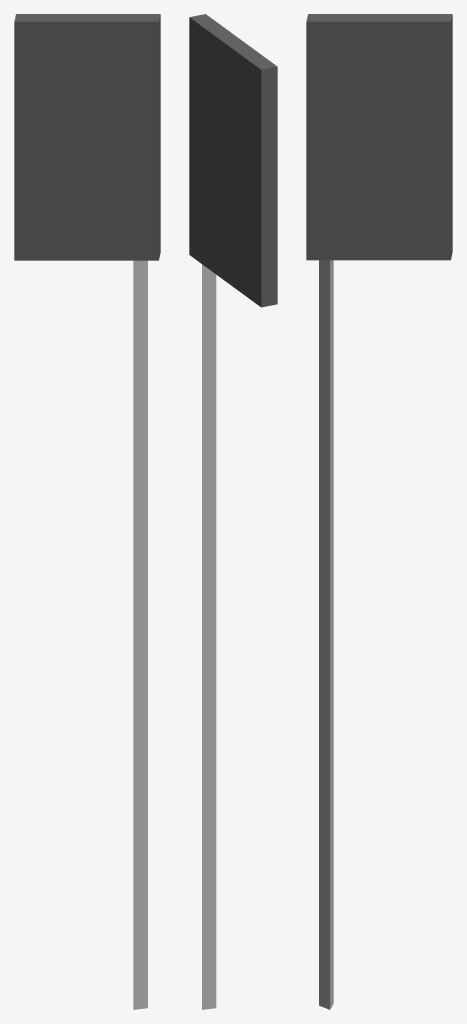
Rendered from Prop_Sign_A_col.fbx.
The picture shows the model from 3 angles, left to right: view 1: azimuth 90°, elevation 25°; view 2: azimuth 210°, elevation 25°; view 3: azimuth 270°, elevation 25°; orthographic projection.
Parts seen in each view (by area): view 1: Prop_Sign_A_col; view 2: Prop_Sign_A_col; view 3: Prop_Sign_A_col.
Boxes of the visible parts, box(x1,y1,x2,y2) form: Prop_Sign_A_col: box(14, 14, 160, 1009); Prop_Sign_A_col: box(189, 14, 277, 1009); Prop_Sign_A_col: box(306, 14, 452, 1009).
Size of the model in its own units: 5.76 by 348 by 46.62.
